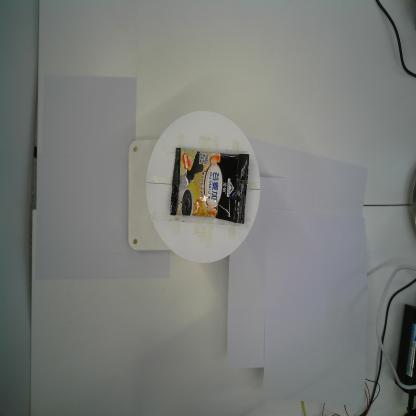Instant Drink: (170, 148, 250, 224)
